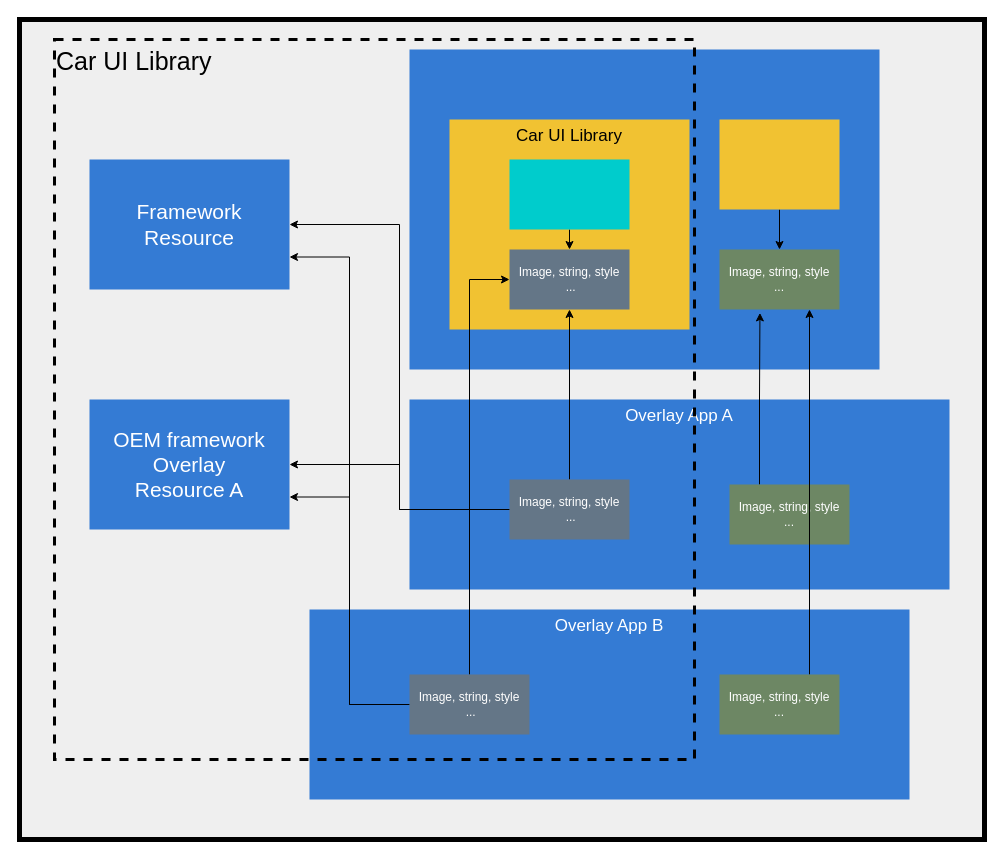
The diagram is 1004 pixels wide and 859 high, and some of its shapes have lost their labels. The shapes that lost their labels are listed below. From the top down, each one's box as (x1, y1, x2, y2) in pixels, then its label:
(719, 119, 839, 209): App UI Component
(509, 159, 629, 229): UI Component(java) Toolbar RecycleView ...
(409, 49, 879, 369): App 1
